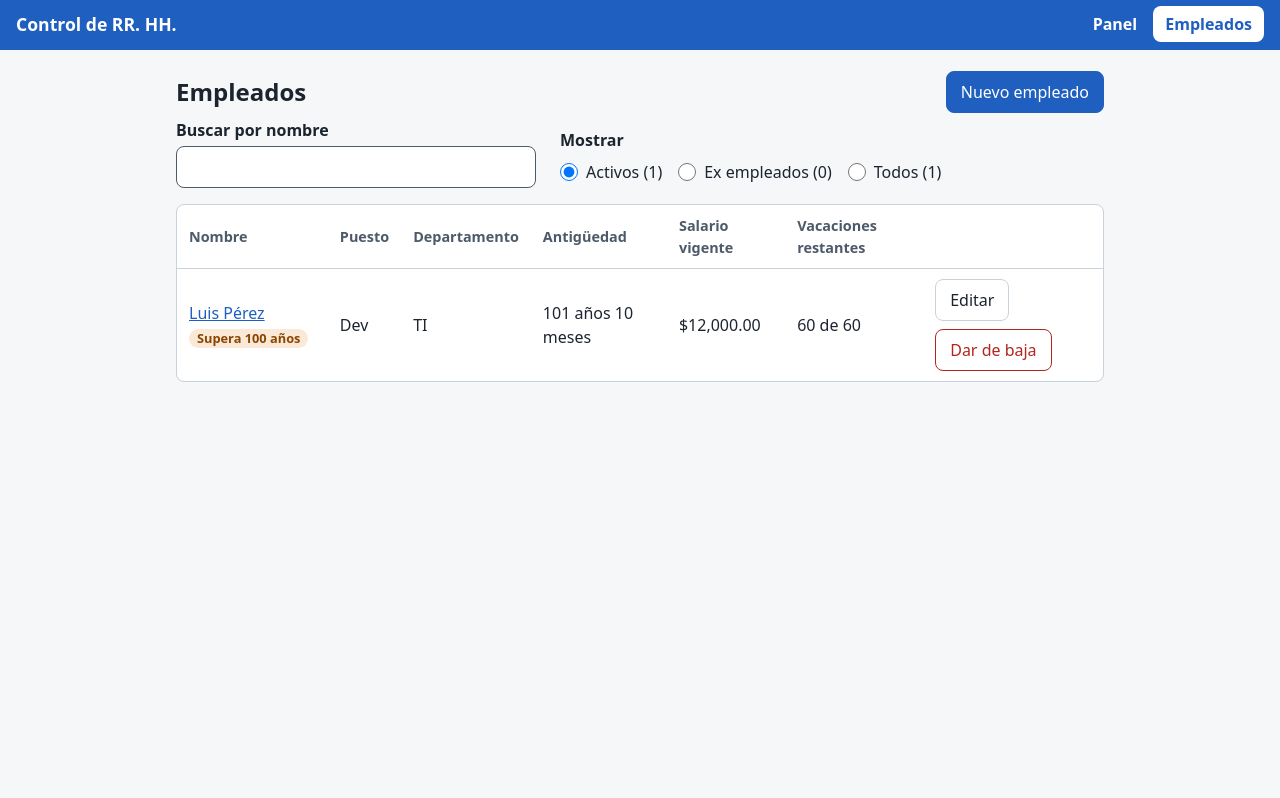
Scenario: empleados que rebasan 100 años (R7) › muestran "Supera 100 años" y al editarlos no se guardan hasta corregir la fecha
Expected: the text "Supera 100 años" is shown, [189,329,308,348]
Click the link "Luis Pérez". click: (227, 313)
box: [189,302,265,324]
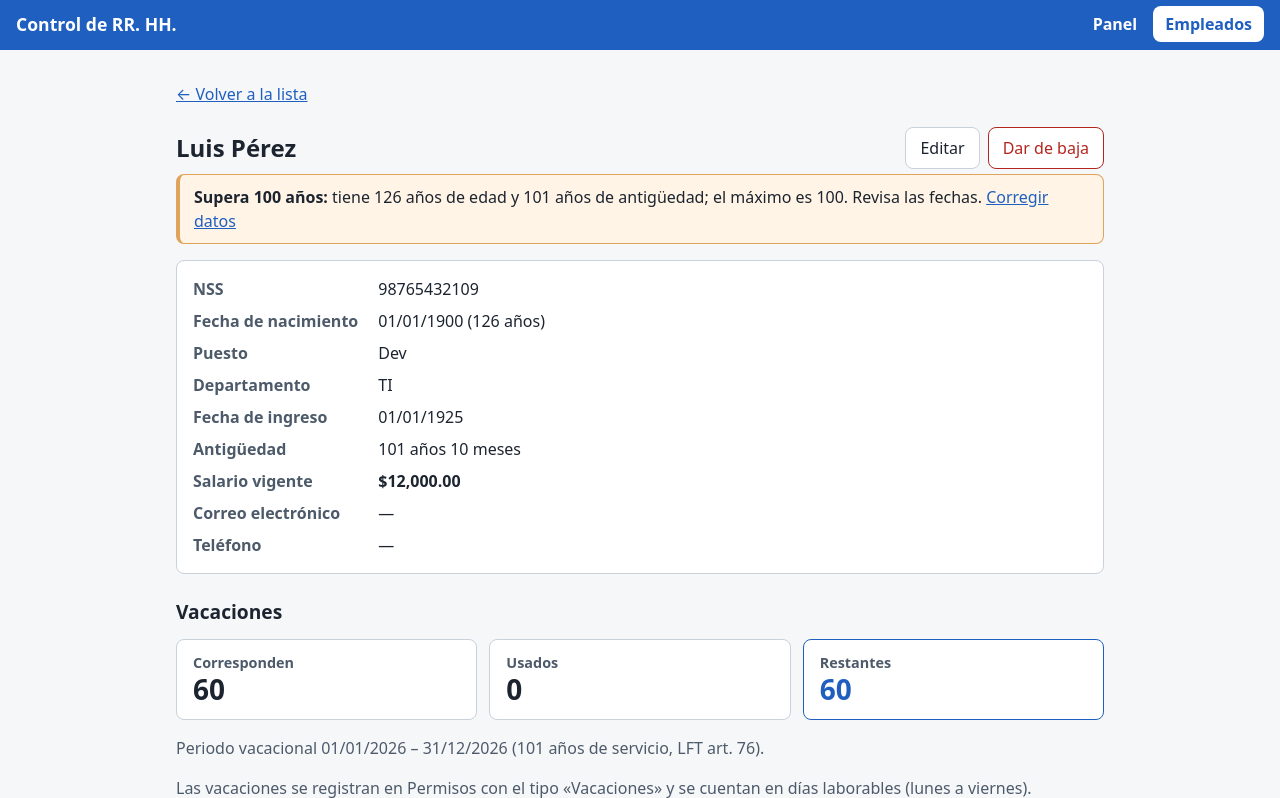
Click the link "Corregir datos". click: (1017, 197)
box: [194,186,1048,232]
(page scrolled)
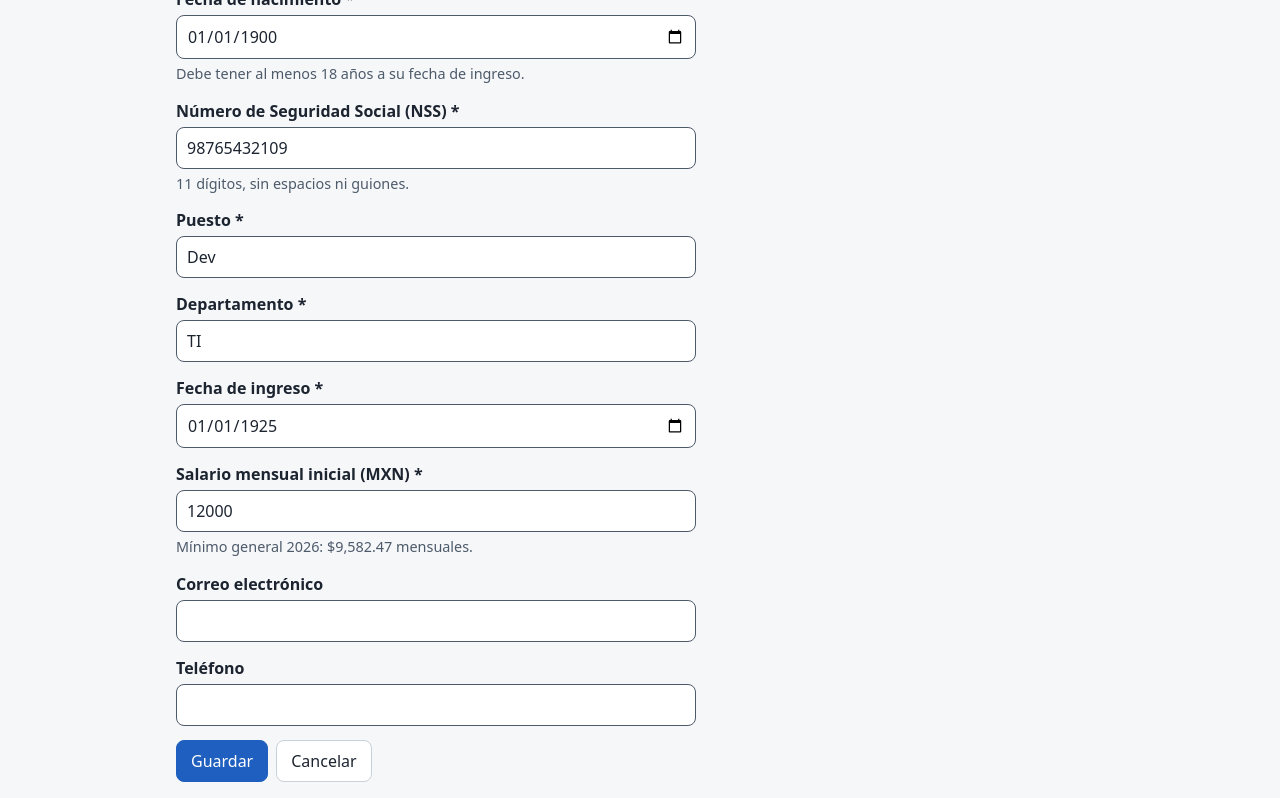
Click the button "Guardar". click: (222, 761)
box: [176,740,268,782]
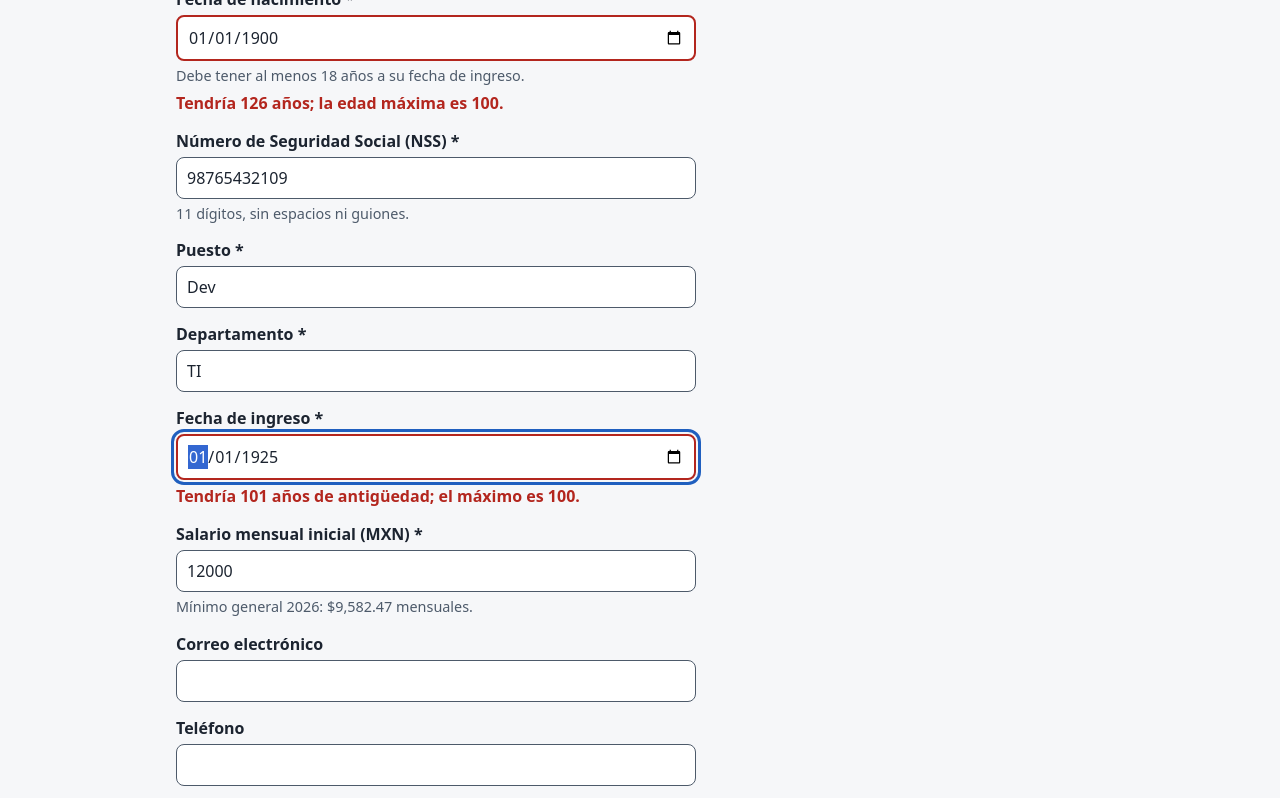
Now the date field labelled "Fecha de nacimiento *" is marked as invalid
Now the date field labelled "Fecha de ingreso *" is marked as invalid, box [176,434,696,480]
Type "1990-05-20" into the date field labelled "Fecha de nacimiento *". click: (436, 38)
box: [176,15,696,61]
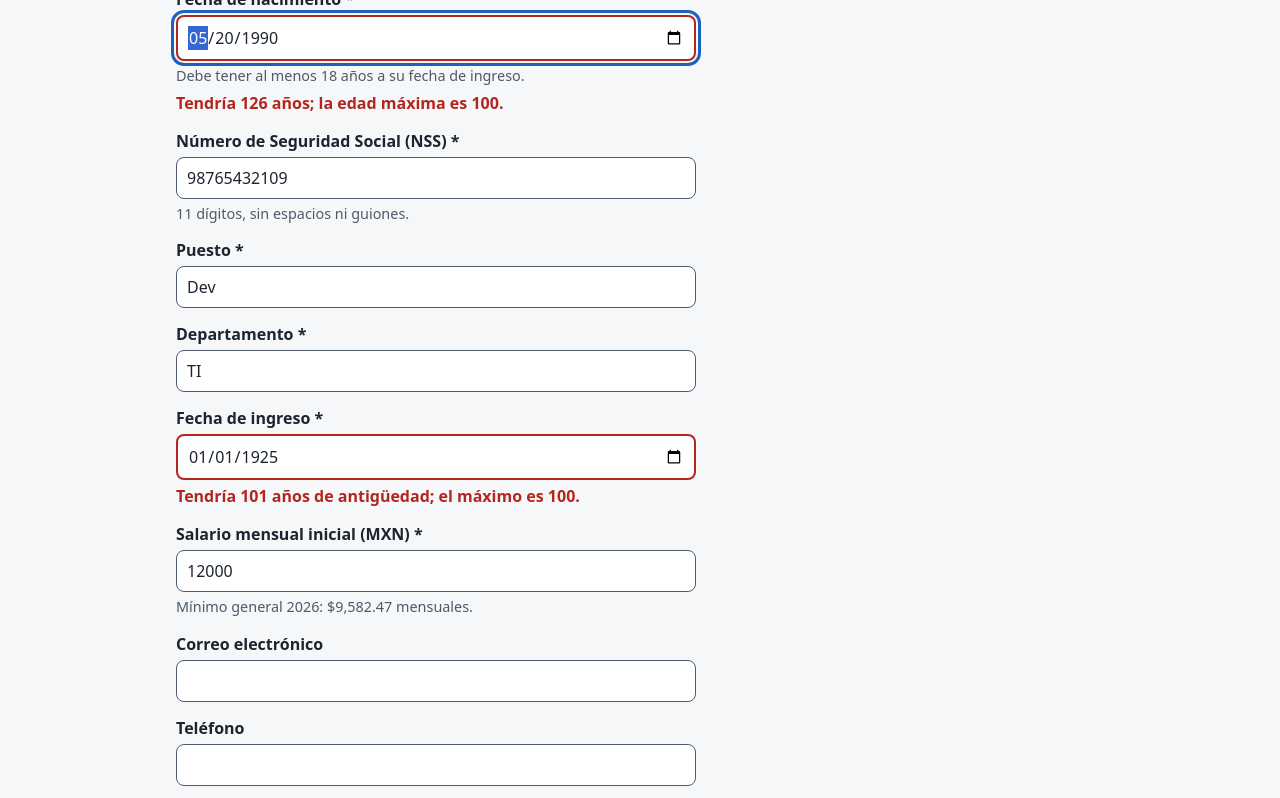
Type "2021-01-01" into the date field labelled "Fecha de ingreso *". click: (436, 457)
box: [176,434,696,480]
(page scrolled)
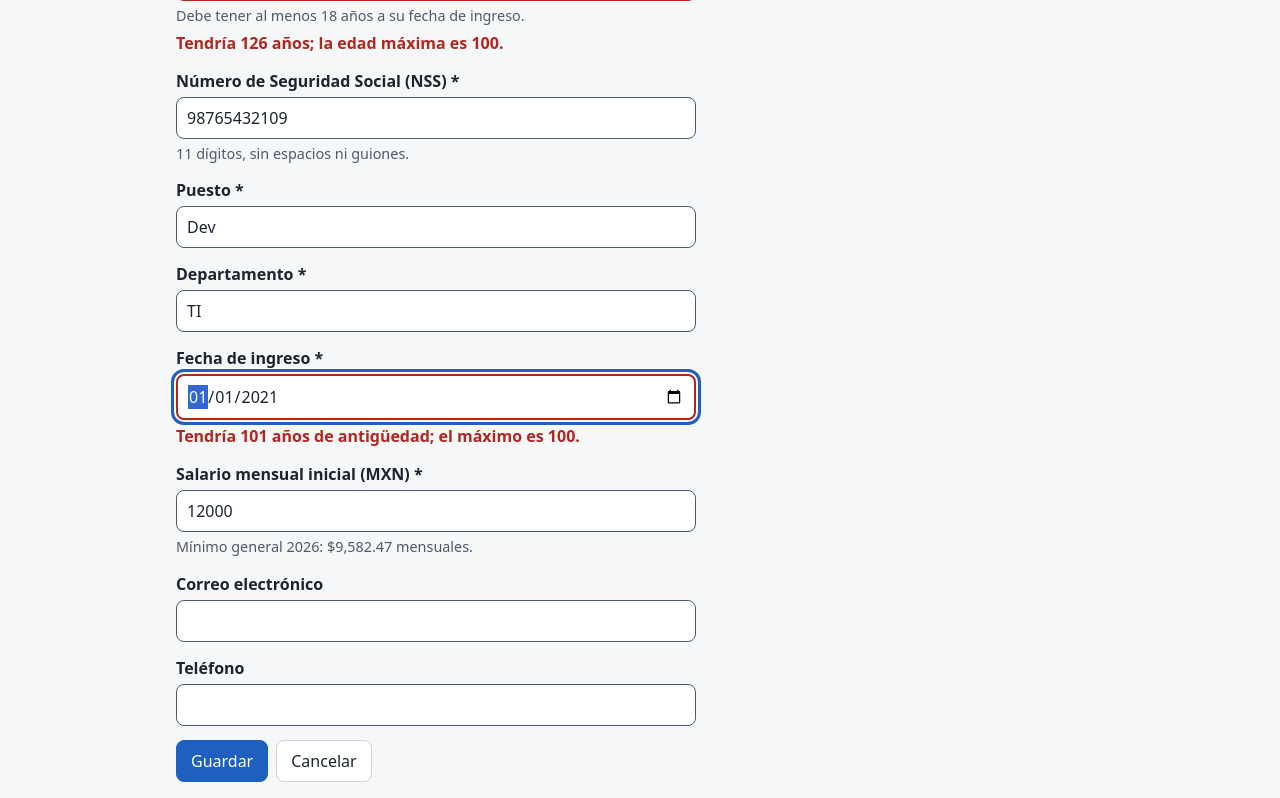
Click the button "Guardar". click: (222, 761)
box: [176,740,268,782]
(page scrolled)
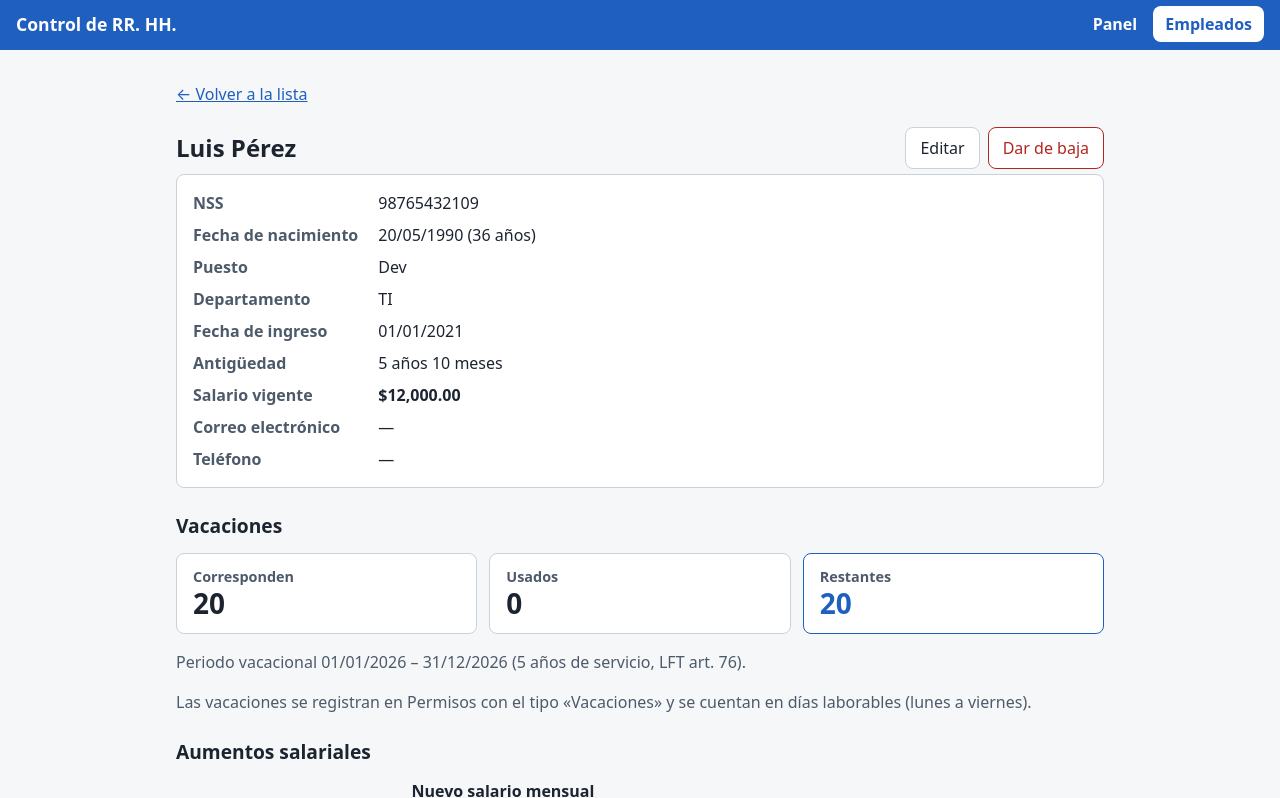
Expected: the text "Supera 100 años" is not shown
Now the heading "Luis Pérez" is shown, box [176,130,296,166]
